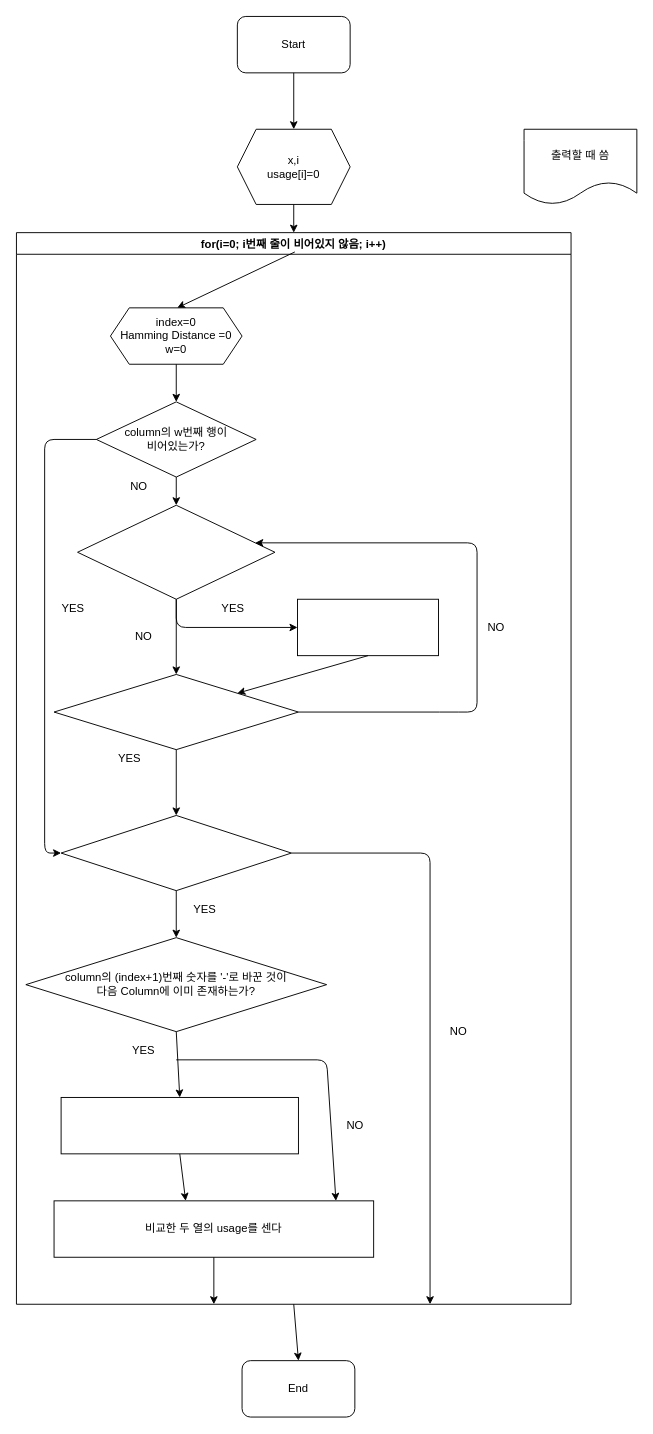
Image size: 653x1434. Some labels were removed from this diagram. The centre of each missing label's shape, as x and y in pixels:
"column의 (index+1)번째 숫자를 '-'로 바꾼다" goes at (179,1125).
"Hamming Distance가 1을 넘는가?" goes at (175,712).
"Hamming Distance가 1인가?" goes at (175,853).
"Hamming Distance를 세고, index=w로 놓는다" goes at (368,627).
"같은 위치에서 두 column의 숫자가 같은가?" goes at (176,551).
